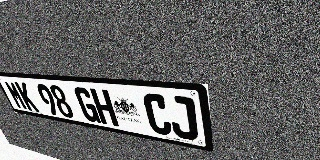8: (48, 85, 75, 119)
9: (34, 83, 61, 116)
C: (142, 93, 173, 137)
G: (73, 87, 101, 123)
H: (89, 88, 119, 127)
J: (167, 95, 199, 141)
K: (14, 82, 40, 112)
M: (3, 81, 28, 110)
